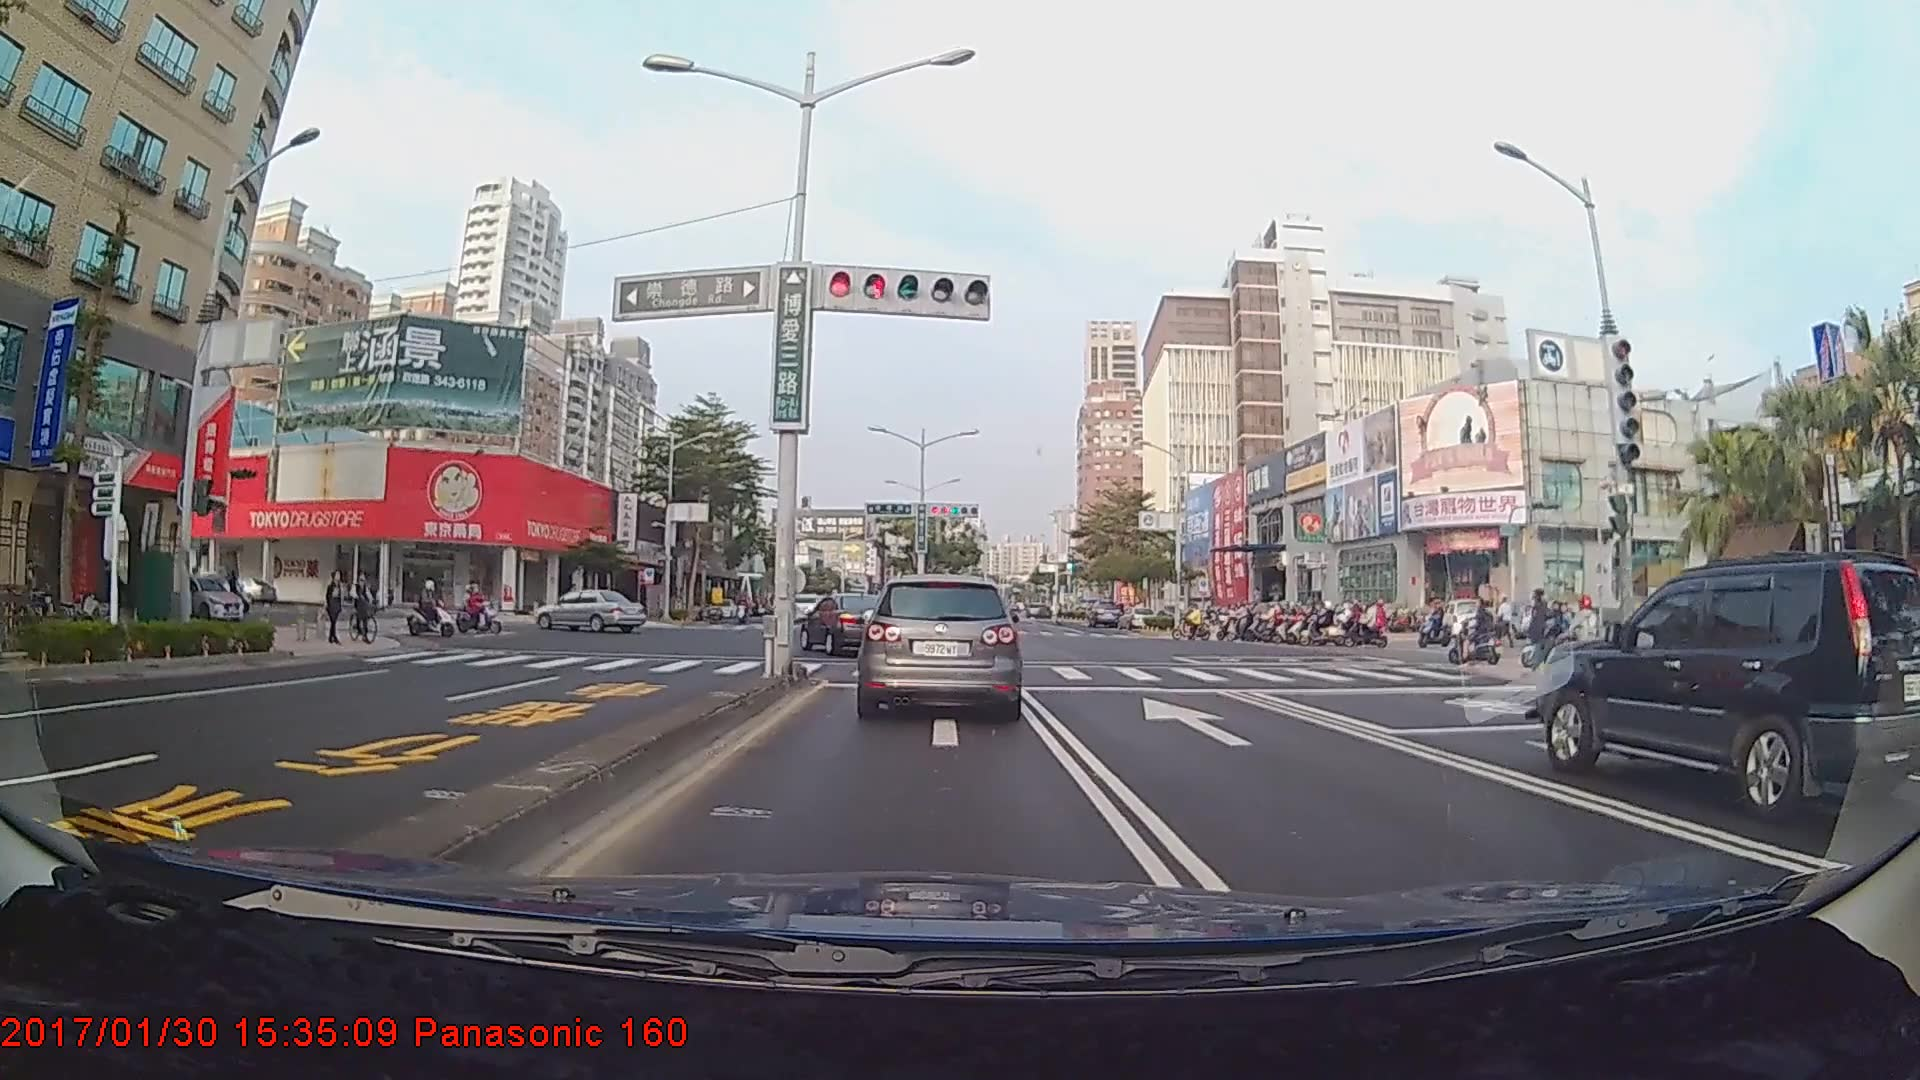pedestrian: (1525, 586, 1555, 676), (325, 565, 346, 648)
rider: (1449, 600, 1511, 665), (406, 577, 458, 641), (447, 577, 501, 634), (347, 566, 385, 642), (1349, 593, 1391, 649), (1310, 601, 1356, 646), (1175, 599, 1215, 639)
vehicle: (1532, 555, 1920, 823), (854, 568, 1025, 723), (799, 589, 898, 656), (534, 584, 645, 631), (1086, 597, 1122, 629)
